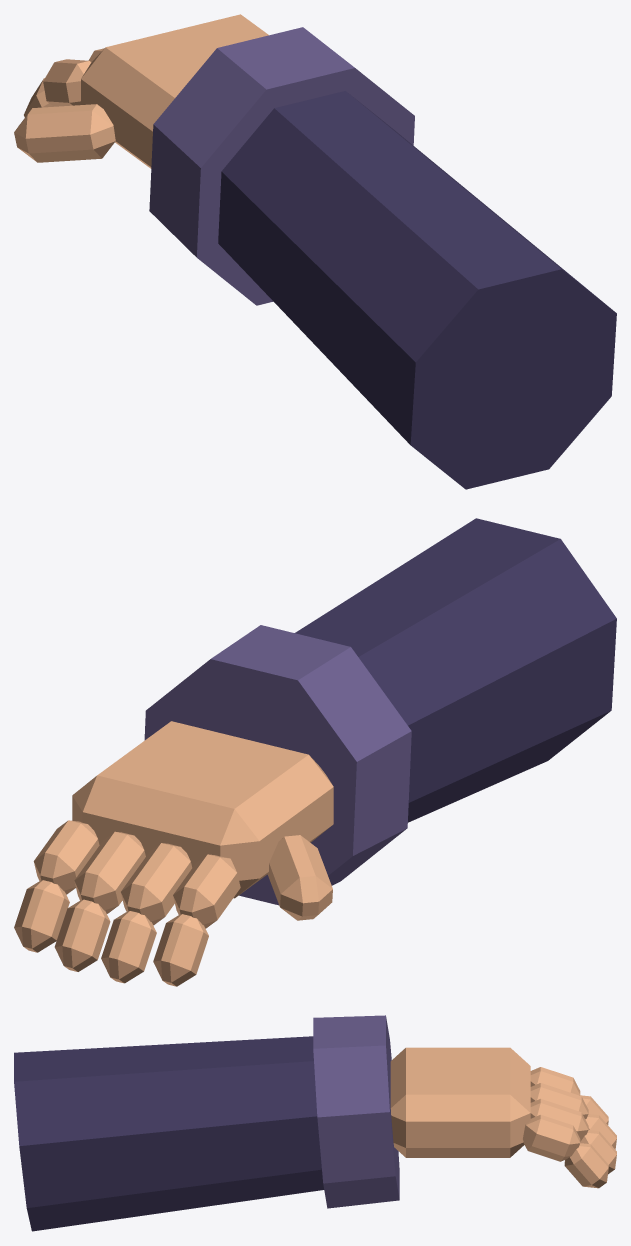
The model's file is mano.glb.
The picture shows the model from 3 angles, top to bottom: view 1: azimuth 30°, elevation 25°; view 2: azimuth 150°, elevation 25°; view 3: azimuth 270°, elevation 25°; orthographic projection. The views are drawn at different scales.
Visible parts, largest first — view 1: mano2; view 2: mano2; view 3: mano2.
Boxes of the visible parts, x1,y1,x2,y2 form: mano2: (14,14,616,489); mano2: (14,518,616,986); mano2: (14,1015,616,1231).
Bounding box in the file's own units: 0.1498 × 0.1419 × 0.4157.
